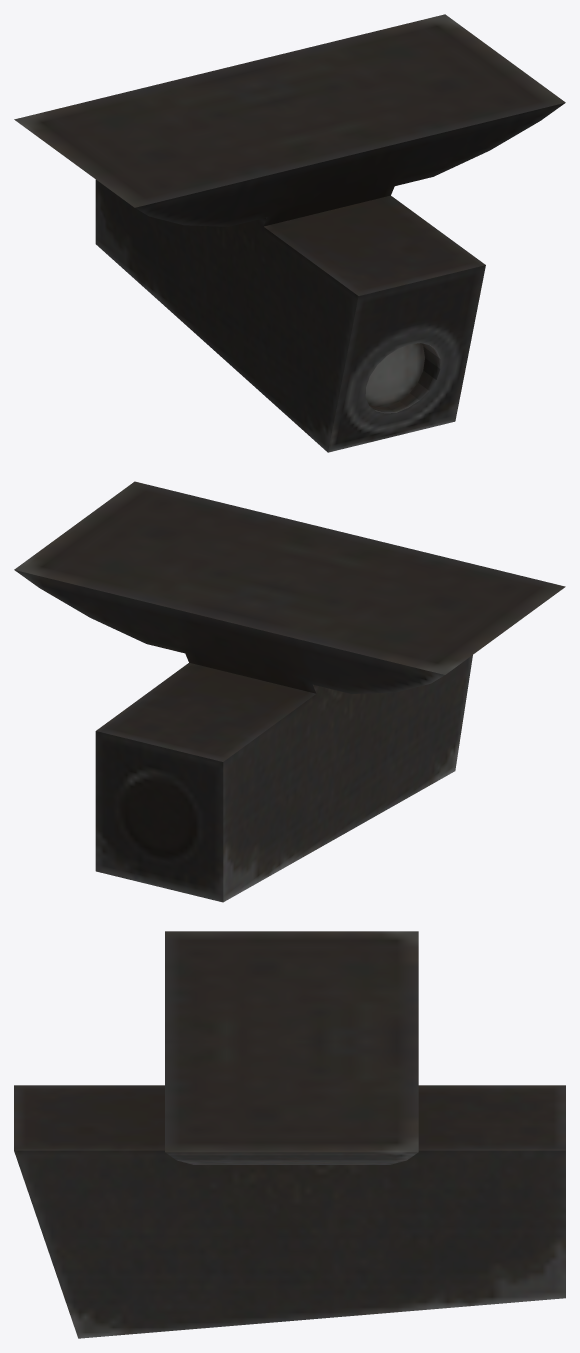
3 renders of one model, top to bottom at view 1: azimuth 30°, elevation 25°; view 2: azimuth 150°, elevation 25°; view 3: azimuth 270°, elevation 25°, orthographic. The views are drawn at different scales.
Visible parts, largest first — view 1: TW_5cadd919ae921500126a77f3_PZ_Import; view 2: TW_5cadd919ae921500126a77f3_PZ_Import; view 3: TW_5cadd919ae921500126a77f3_PZ_Import.
Part boxes in pixels (left/top/right/bottom): TW_5cadd919ae921500126a77f3_PZ_Import: left=14, top=14, right=565, bottom=452; TW_5cadd919ae921500126a77f3_PZ_Import: left=14, top=481, right=565, bottom=902; TW_5cadd919ae921500126a77f3_PZ_Import: left=14, top=931, right=565, bottom=1338.
Bounding box in the file's own units: 0.00667 × 0.00705 × 0.00372.
Materials: 1 (1 with a texture image).
